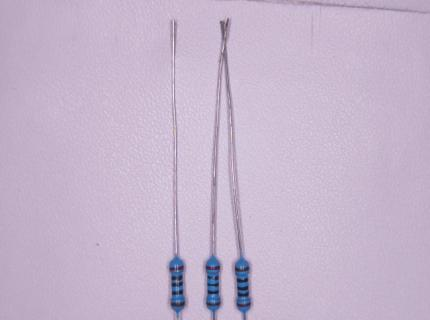Black band: (207, 289, 220, 295), (171, 275, 183, 281), (172, 290, 183, 296), (237, 286, 249, 291), (237, 278, 249, 283), (238, 292, 249, 297), (172, 282, 183, 287), (207, 276, 219, 280), (207, 283, 219, 287)
Brown band: (235, 266, 250, 272), (171, 302, 186, 307), (206, 301, 221, 306)
Red band: (169, 266, 184, 271), (205, 266, 220, 270), (237, 303, 251, 307)
